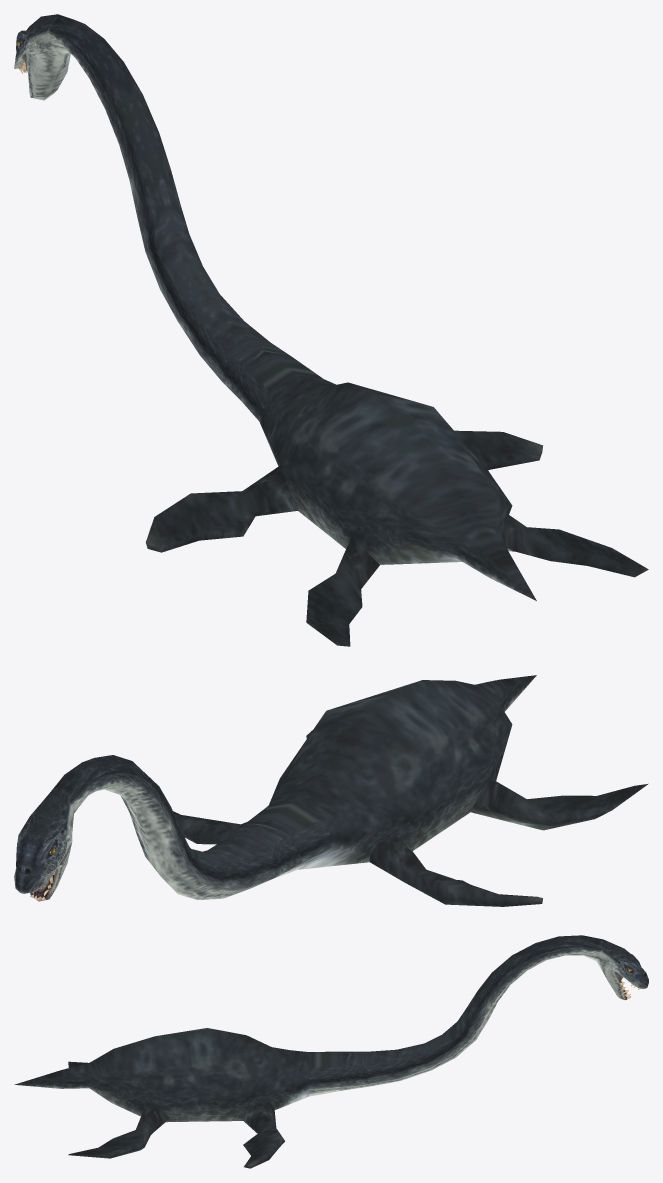
The model's file is plesiosaurus.glb.
The picture shows the model from 3 angles, top to bottom: view 1: azimuth 30°, elevation 25°; view 2: azimuth 150°, elevation 25°; view 3: azimuth 270°, elevation 25°; orthographic projection. The views are drawn at different scales.
Visible parts, largest first — view 1: plesiosaurus; view 2: plesiosaurus; view 3: plesiosaurus.
Part boxes in pixels (x1,y1,x2,y2): plesiosaurus: (14, 14, 648, 646); plesiosaurus: (14, 675, 648, 906); plesiosaurus: (14, 935, 648, 1168).
Size of the model in its own units: 9.12 by 6.51 by 20.51.
Materials: 2 (2 with a texture image).
